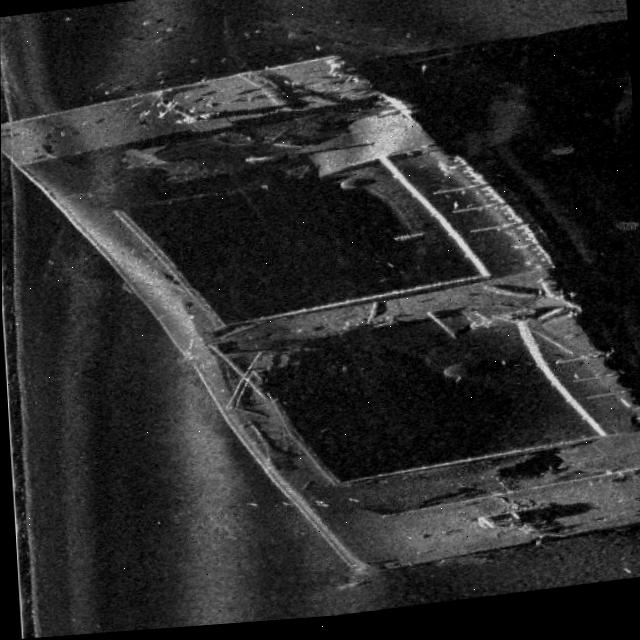shipwreck: (7, 42, 640, 606)
